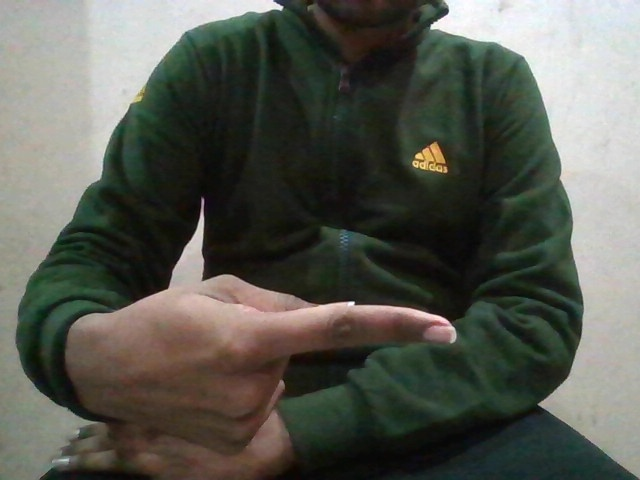G: (51, 275, 471, 439)
